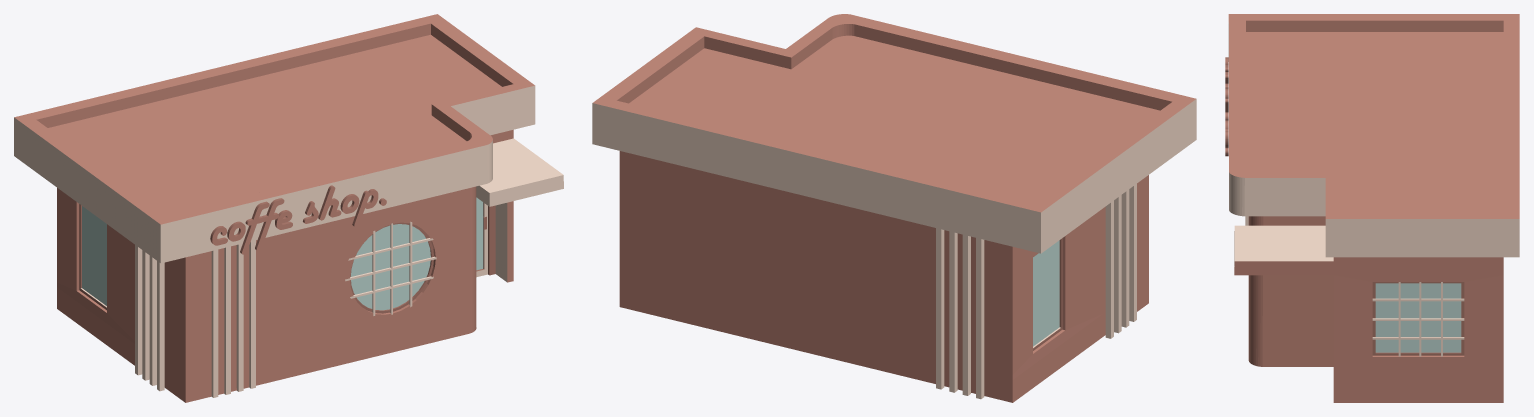
The model's file is coffee_shop.glb.
3 views of the same model, side by side, from view 1: azimuth 30°, elevation 25°; view 2: azimuth 150°, elevation 25°; view 3: azimuth 270°, elevation 25° (orthographic). The views are drawn at different scales.
Visible parts, largest first — view 1: body; view 2: body; view 3: body.
Part boxes in pixels (left/top/right/bottom): body: left=14, top=14, right=563, bottom=402; body: left=592, top=14, right=1196, bottom=402; body: left=1225, top=14, right=1519, bottom=402.
Size of the model in its own units: 8.79 by 3.86 by 5.34.
